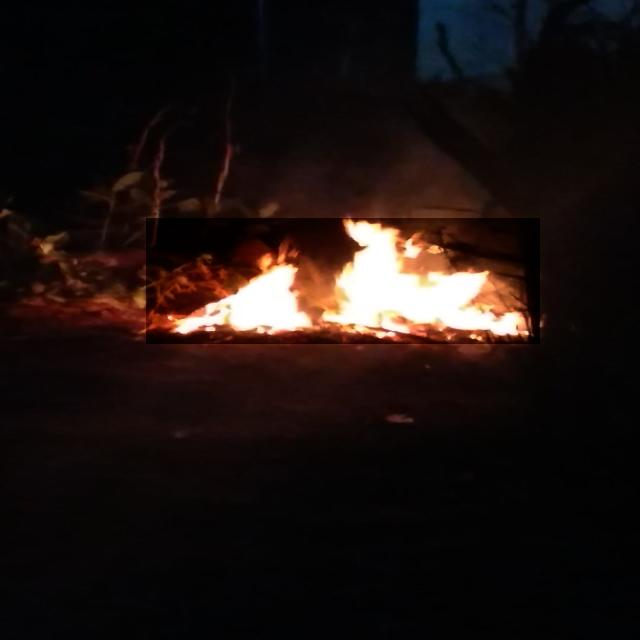Fire: (146, 218, 540, 344)
